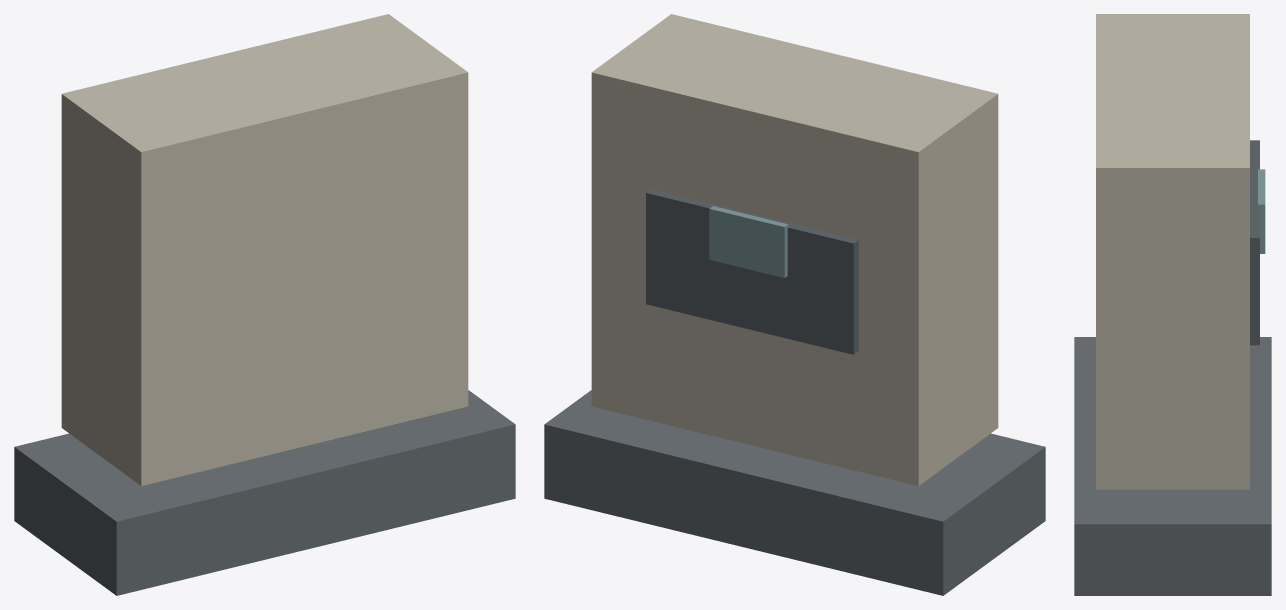
File: iz3_production_chemistry_01.glb
3 views of the same model, side by side, from view 1: azimuth 30°, elevation 25°; view 2: azimuth 150°, elevation 25°; view 3: azimuth 270°, elevation 25° (orthographic). The views are drawn at different scales.
Visible parts, largest first — view 1: cabinet, base; view 2: cabinet, base, panel, display; view 3: cabinet, base, panel, display.
Part boxes in pixels (left/top/right/bottom): cabinet: left=61, top=14, right=468, bottom=485; base: left=14, top=390, right=515, bottom=595; cabinet: left=591, top=14, right=998, bottom=485; base: left=544, top=390, right=1045, bottom=595; panel: left=646, top=189, right=858, bottom=354; display: left=709, top=206, right=788, bottom=277; cabinet: left=1096, top=14, right=1249, bottom=489; base: left=1074, top=337, right=1271, bottom=595; panel: left=1250, top=140, right=1259, bottom=345; display: left=1258, top=169, right=1265, bottom=253.
Bounding box in the file's own units: 1.8 × 1.84 × 0.8.
